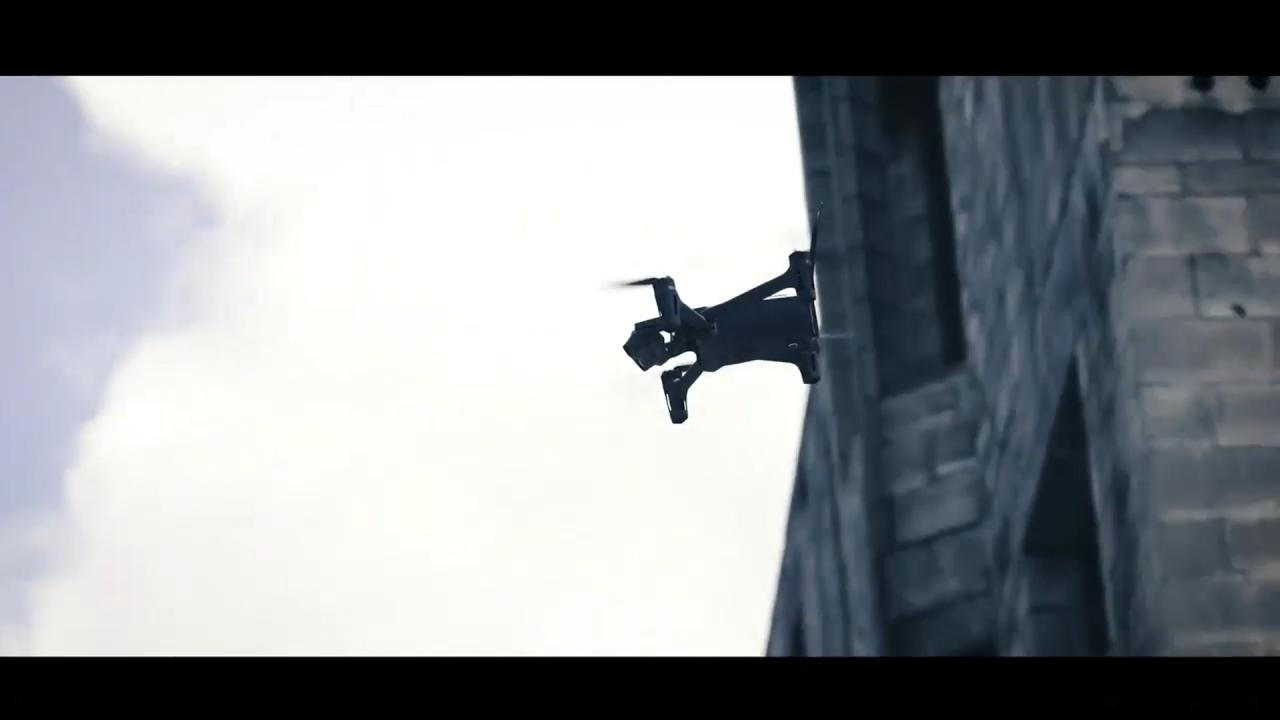Drone: (592, 189, 873, 437)
